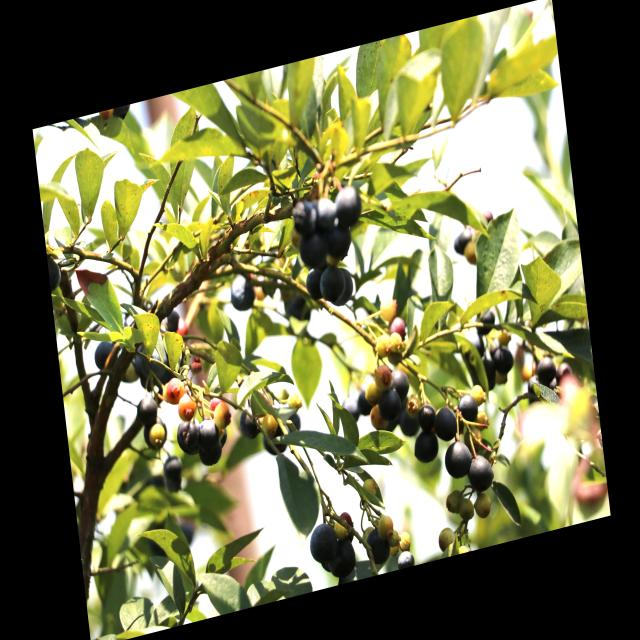blueberry: (330, 178, 368, 232), (306, 514, 344, 568), (439, 435, 477, 488), (462, 447, 496, 503), (295, 228, 332, 278), (315, 260, 351, 311), (373, 380, 409, 429), (172, 413, 206, 463), (325, 534, 359, 584), (285, 193, 321, 240), (88, 329, 124, 376), (331, 261, 360, 316), (364, 517, 394, 570), (298, 260, 331, 308), (327, 218, 358, 268), (308, 187, 338, 235), (453, 383, 483, 431), (408, 429, 443, 470), (470, 300, 503, 343), (430, 401, 460, 448), (488, 338, 520, 382), (196, 414, 226, 460), (534, 348, 562, 391), (403, 396, 427, 444), (386, 362, 414, 403), (413, 396, 440, 438), (550, 353, 578, 393), (46, 244, 67, 296), (388, 542, 420, 572)
blueberry-halfripe: (176, 394, 198, 424), (164, 375, 185, 406), (374, 362, 393, 392), (388, 314, 407, 341)
blueberry-unripe: (147, 419, 168, 449), (212, 400, 231, 431), (378, 295, 398, 324), (260, 410, 278, 437), (375, 332, 390, 358), (388, 332, 403, 354), (287, 390, 302, 412)
